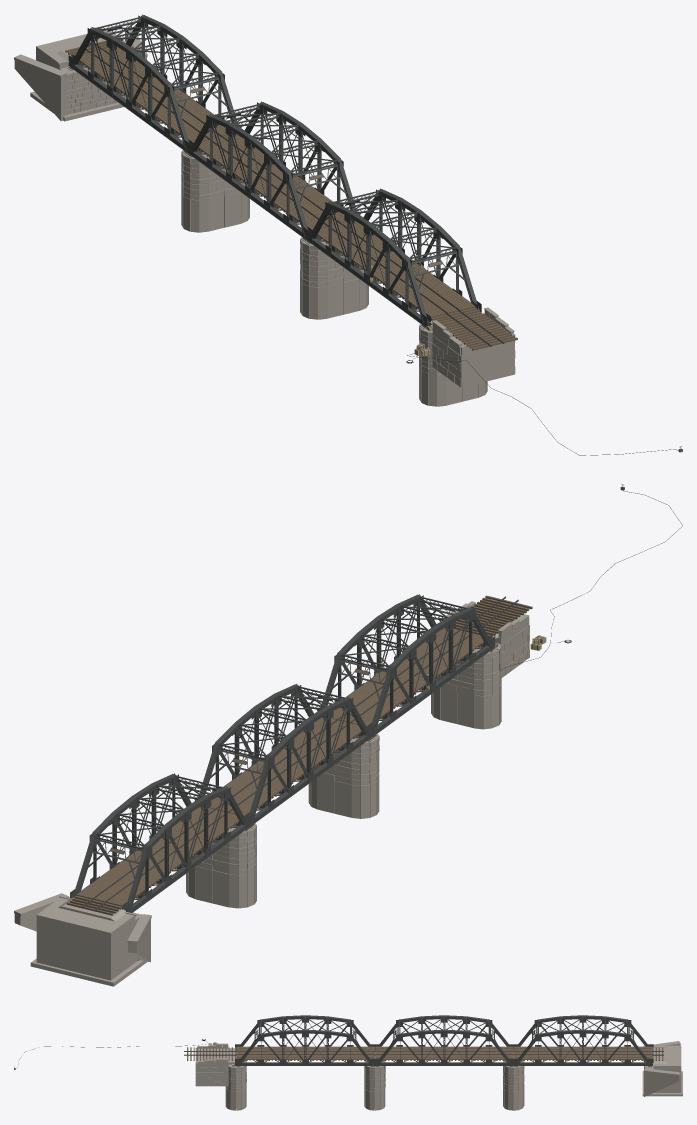
Rendered from Model_RailBridge.glb.
3 views of the same model, one above another, from view 1: azimuth 30°, elevation 25°; view 2: azimuth 150°, elevation 25°; view 3: azimuth 270°, elevation 25° (orthographic). The views are drawn at different scales.
Parts seen in each view (by area): view 1: SpanNorth, SpanMid, Piers, SouthSpan, ApproachSouth, AbutmentNorth, NorthSpan, CentreTrussW; view 2: SpanNorth, SpanMid, Piers, AbutmentNorth, NorthSpan, SouthSpan, ApproachSouth, CentreTrussW; view 3: SpanMid, SpanNorth, Piers, NorthSpan, SouthSpan, AbutmentNorth, ApproachSouth, CentreTrussE, CentreTrussW.
Boxes of the visible parts, bbox=[...] form: SpanNorth: bbox=[67, 14, 242, 154]; SpanMid: bbox=[186, 101, 361, 241]; Piers: bbox=[181, 150, 487, 406]; SouthSpan: bbox=[376, 218, 481, 327]; ApproachSouth: bbox=[429, 307, 517, 387]; AbutmentNorth: bbox=[14, 29, 147, 121]; NorthSpan: bbox=[306, 188, 411, 276]; CentreTrussW: bbox=[357, 216, 379, 290]; SpanNorth: bbox=[70, 773, 251, 912]; SpanMid: bbox=[193, 684, 374, 828]; Piers: bbox=[186, 651, 501, 908]; AbutmentNorth: bbox=[14, 893, 151, 986]; NorthSpan: bbox=[317, 625, 423, 737]; SouthSpan: bbox=[387, 594, 495, 685]; ApproachSouth: bbox=[446, 595, 532, 677]; CentreTrussW: bbox=[419, 623, 443, 699]; SpanMid: bbox=[373, 1015, 514, 1067]; SpanNorth: bbox=[512, 1015, 653, 1067]; Piers: bbox=[225, 1053, 524, 1110]; NorthSpan: bbox=[316, 1015, 376, 1065]; SouthSpan: bbox=[235, 1015, 294, 1065]; AbutmentNorth: bbox=[642, 1041, 682, 1096]; ApproachSouth: bbox=[184, 1043, 236, 1086]; CentreTrussE: bbox=[294, 1029, 316, 1065]; CentreTrussW: bbox=[294, 1015, 316, 1046].
Bounding box in the file's own units: 15.66 × 14.99 × 116.
